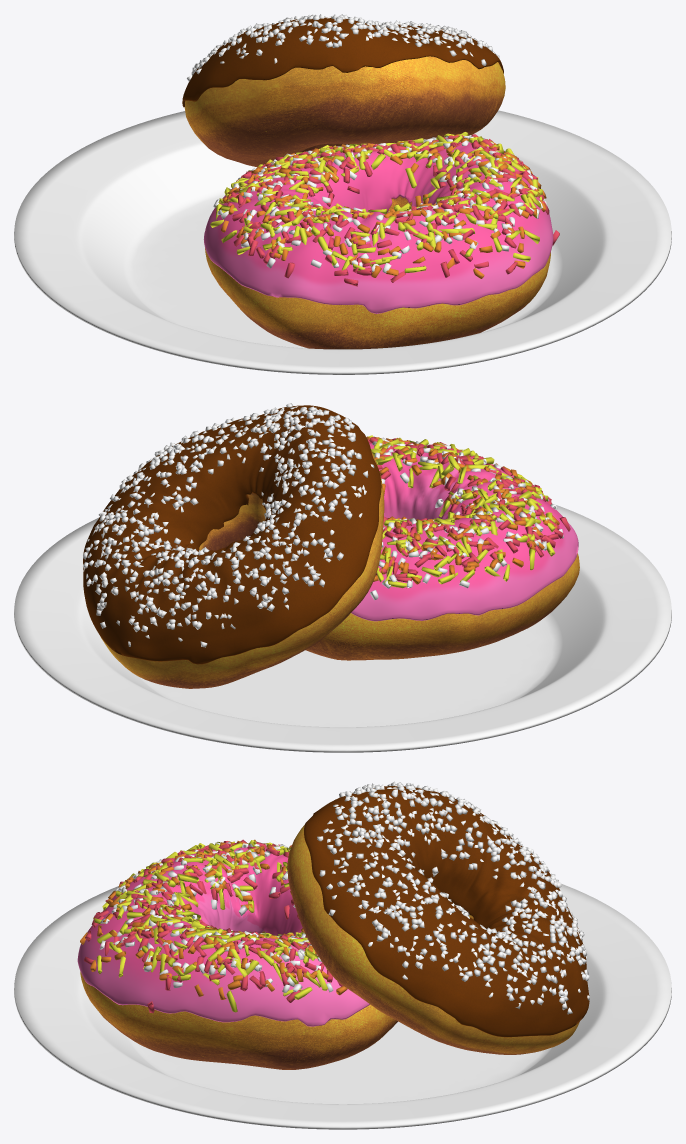
The model's file is donuts.glb.
3 views of the same model, one above another, from view 1: azimuth 30°, elevation 25°; view 2: azimuth 150°, elevation 25°; view 3: azimuth 270°, elevation 25° (orthographic).
Parts seen in each view (by area): view 1: plate, sprinkle-pink-donut, glace, donuts.001, donuts, glace.001, sprinkle-cocoa-donut; view 2: plate, glace.001, sprinkle-cocoa-donut, sprinkle-pink-donut, glace, donuts, donuts.001; view 3: plate, glace.001, sprinkle-pink-donut, glace, sprinkle-cocoa-donut, donuts, donuts.001.
Part boxes in pixels (x1,y1,x2,y2): plate: (14,110,671,374); sprinkle-pink-donut: (210,132,559,286); glace: (203,141,553,313); donuts.001: (184,56,505,166); donuts: (205,196,550,349); glace.001: (182,17,503,107); sprinkle-cocoa-donut: (187,14,499,81); plate: (14,503,671,752); glace.001: (83,405,381,664); sprinkle-cocoa-donut: (82,403,374,647); sprinkle-pink-donut: (366,435,570,600); glace: (351,443,578,621); donuts: (305,553,579,660); donuts.001: (101,451,384,688); plate: (14,883,671,1129); glace.001: (304,786,589,1037); sprinkle-pink-donut: (80,839,347,1013); glace: (77,845,369,1026); sprinkle-cocoa-donut: (317,781,589,1014); donuts: (80,931,397,1069); donuts.001: (287,824,579,1054).
Bounding box in the file's own units: 0.22 × 0.0885 × 0.22.
Materials: 9 (8 with a texture image).
